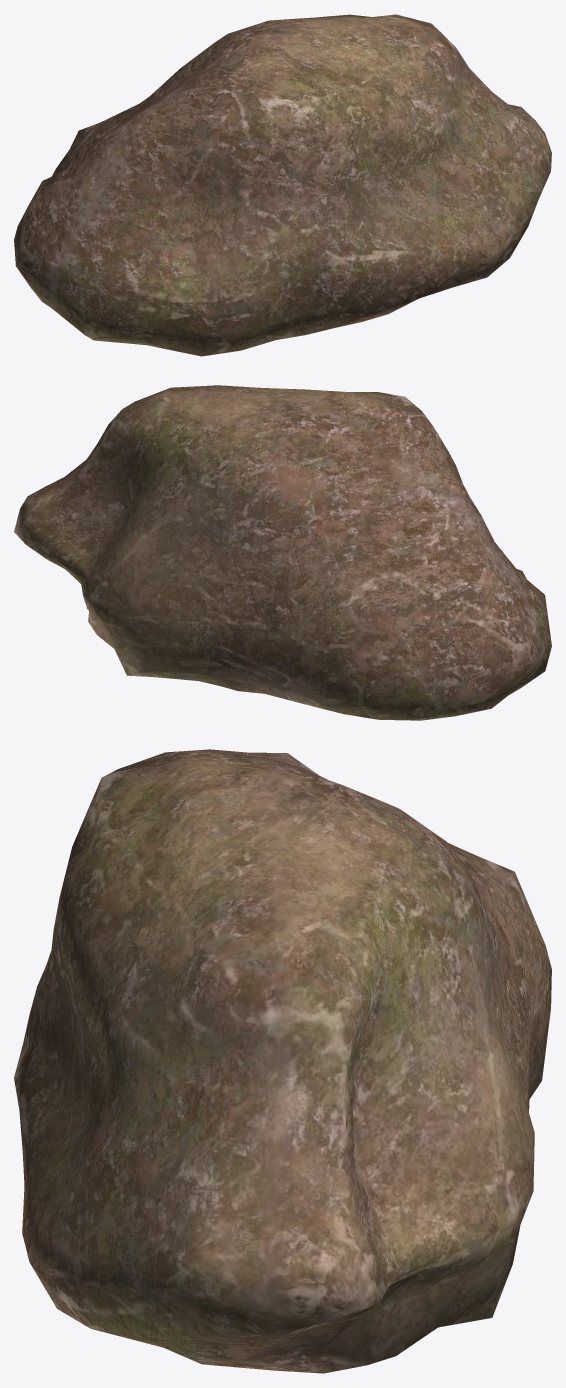
File: Rock_4.glb
The picture shows the model from 3 angles, top to bottom: view 1: azimuth 30°, elevation 25°; view 2: azimuth 150°, elevation 25°; view 3: azimuth 270°, elevation 25°; orthographic projection. The views are drawn at different scales.
Visible parts, largest first — view 1: Rock_4__LOD3; view 2: Rock_4__LOD3; view 3: Rock_4__LOD3.
Part boxes in pixels (x1,y1,x2,y2): Rock_4__LOD3: (14, 14, 551, 356); Rock_4__LOD3: (14, 385, 551, 720); Rock_4__LOD3: (14, 749, 551, 1373).
Size of the model in its own units: 0.9418 by 0.4642 by 0.4972.
Materials: 1 (1 with a texture image).
